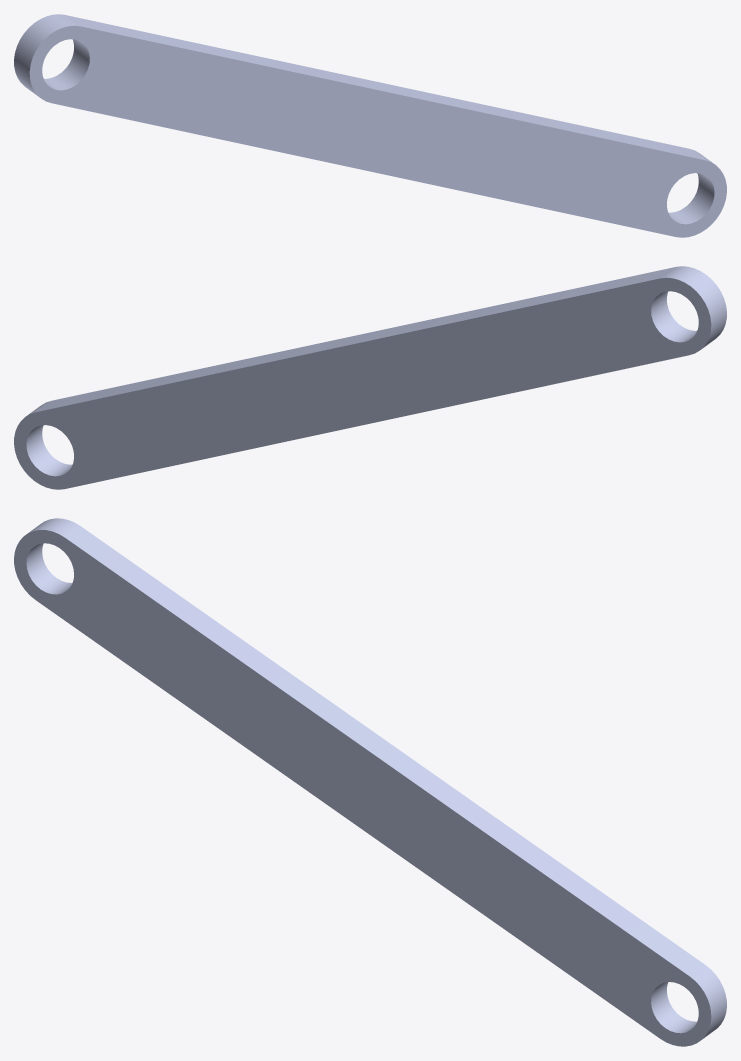
Rendered from small_needle_holder_link2_1.dae.
The picture shows the model from 3 angles, top to bottom: view 1: azimuth 30°, elevation 25°; view 2: azimuth 150°, elevation 25°; view 3: azimuth 330°, elevation 25°; orthographic projection.
Visible parts, largest first — view 1: node0; view 2: node0; view 3: node0.
Boxes of the visible parts, box(x1,y1,x2,y2) form: node0: box(14, 14, 726, 237); node0: box(14, 266, 726, 489); node0: box(14, 518, 726, 1046).
Bounding box in the file's own units: 0.0767 × 0.0381 × 0.003.
